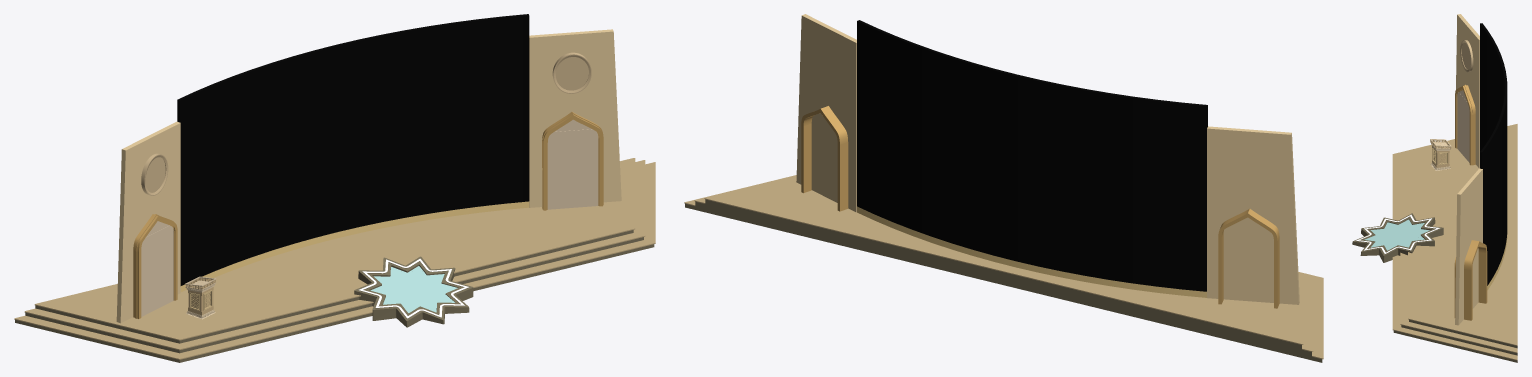
3 views of the same model, side by side, from view 1: azimuth 30°, elevation 25°; view 2: azimuth 150°, elevation 25°; view 3: azimuth 270°, elevation 25° (orthographic). The views are drawn at different scales.
Visible parts, largest first — view 1: screen-base001, stage, Box036, Box035, Mesh001_12 - Default_0, Mesh001_10 - Default_0, screen-base, Layer:Default, Layer:Default001, Cylinder002, Cylinder001, Mesh001_11 - Default_0 (+1 smaller); view 2: screen-base001, stage, Box035, Box036, screen-base, Layer:Default001, Layer:Default; view 3: stage, screen-base001, Box036, Box035, Mesh001_12 - Default_0, Layer:Default001, Mesh001_10 - Default_0, Layer:Default, Mesh001_11 - Default_0, frames-002_ex-1_0, Cylinder001, frames-002_ex-4_0 (+1 smaller).
Part boxes in pixels (x1,y1,x2,y2): screen-base001: (177,14,529,285); stage: (14,158,655,362); Box036: (529,29,621,207); Box035: (116,121,180,323); Mesh001_12 - Default_0: (354,256,473,327); Mesh001_10 - Default_0: (370,266,457,312); screen-base: (180,201,529,291); Layer:Default: (133,214,177,318); Layer:Default001: (542,112,603,210); Cylinder002: (552,52,591,93); Cylinder001: (141,153,168,195); Mesh001_11 - Default_0: (359,258,468,318); screen-base001: (857,20,1207,291); stage: (684,175,1323,362); Box035: (1207,126,1299,304); Box036: (796,14,856,212); screen-base: (857,206,1206,297); Layer:Default001: (801,106,848,211); Layer:Default: (1218,208,1279,308); stage: (1392,124,1517,362); screen-base001: (1480,23,1507,285); Box036: (1455,168,1482,325); Box035: (1456,14,1479,168); Mesh001_12 - Default_0: (1352,213,1443,262); Layer:Default001: (1454,240,1487,320); Mesh001_10 - Default_0: (1364,219,1429,250); Layer:Default: (1455,84,1475,165); Mesh001_11 - Default_0: (1356,214,1439,253); frames-002_ex-1_0: (1430,140,1451,167); Cylinder001: (1460,40,1473,72); frames-002_ex-4_0: (1430,139,1451,170).
Bounding box in the file's own units: 21.65 × 6.66 × 6.42.
